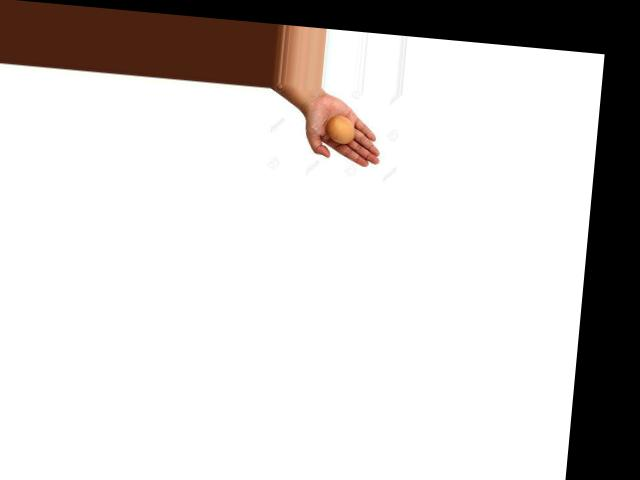egg: (324, 114, 355, 144)
